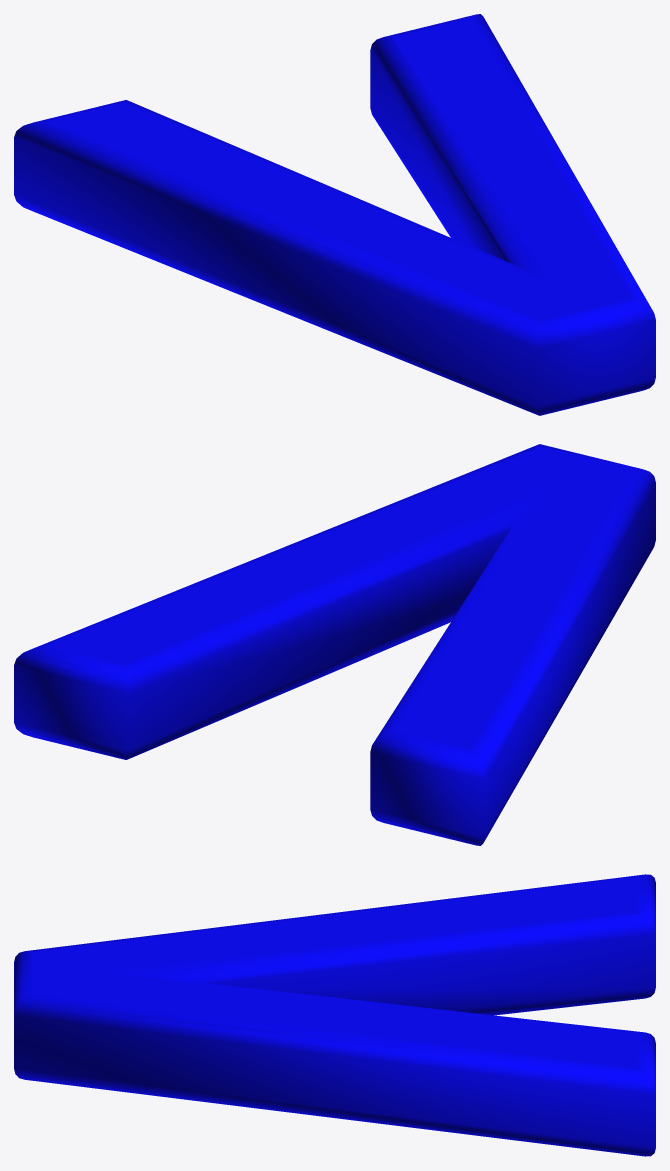
3 views of the same model, one above another, from view 1: azimuth 30°, elevation 25°; view 2: azimuth 150°, elevation 25°; view 3: azimuth 270°, elevation 25° (orthographic). The views are drawn at different scales.
Visible parts, largest first — view 1: 86; view 2: 86; view 3: 86.
Boxes of the visible parts, x1,y1,x2,y2 form: 86: (14,14,655,415); 86: (14,444,655,845); 86: (14,874,655,1156).
Bounding box in the file's own units: 0.8591 × 0.16 × 1.1.
